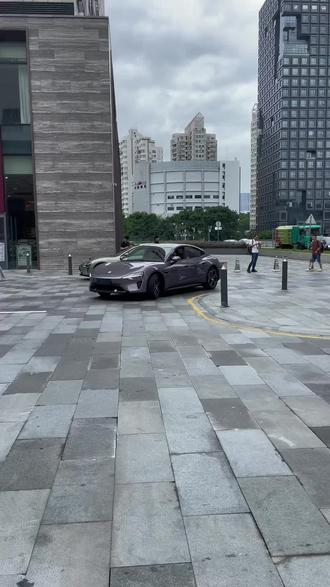su7: (84, 243, 225, 297)
